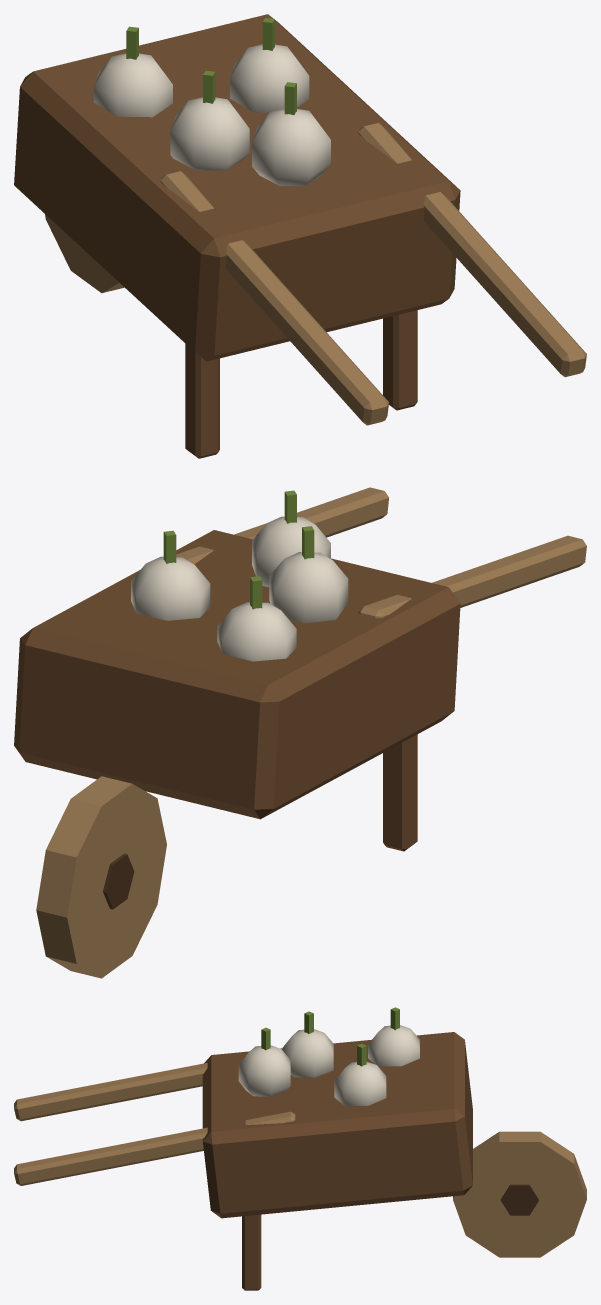
File: wheelbarrow.fbx
The picture shows the model from 3 angles, top to bottom: view 1: azimuth 30°, elevation 25°; view 2: azimuth 150°, elevation 25°; view 3: azimuth 270°, elevation 25°; orthographic projection. The views are drawn at different scales.
Visible parts, largest first — view 1: Prop; view 2: Prop; view 3: Prop.
Part boxes in pixels (<box>): Prop: <box>14,14,586,458</box>; Prop: <box>14,487,586,978</box>; Prop: <box>14,1007,586,1290</box>.
Size of the model in its own units: 0.42 by 1.2 by 0.52.
